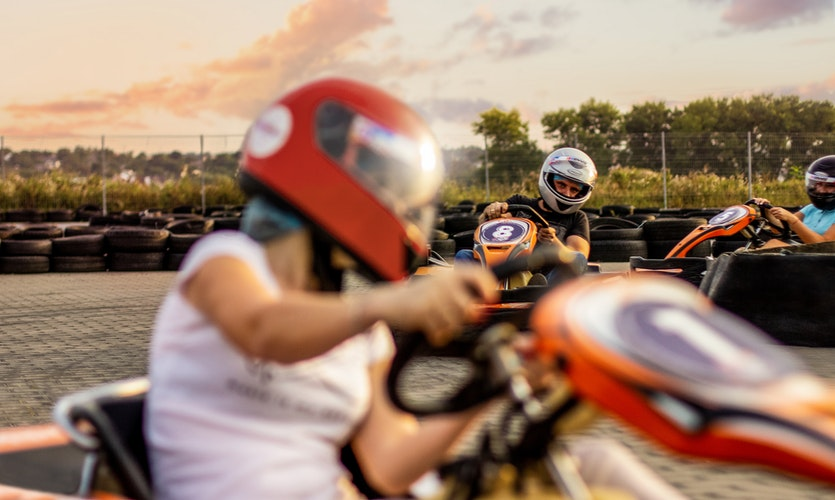helmet: (244, 74, 448, 273), (539, 143, 598, 218)
